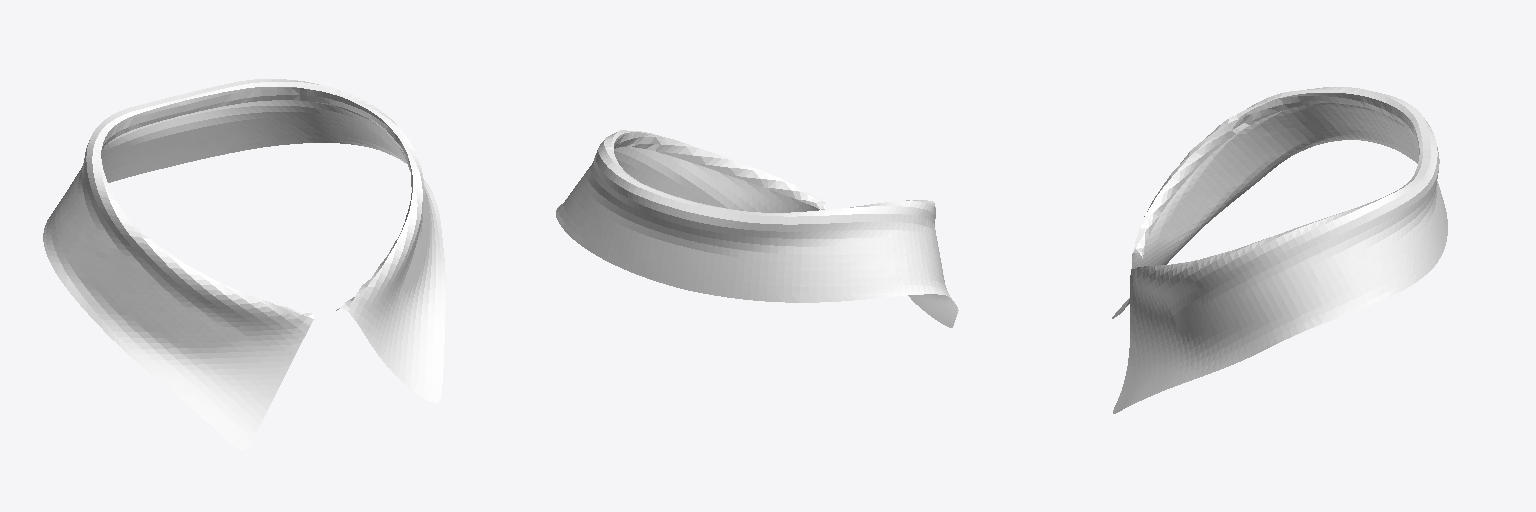
File: AFO_Shirt_Standard_Collar.obj
The picture shows the model from 3 angles: view 1: azimuth 30°, elevation 25°; view 2: azimuth 150°, elevation 25°; view 3: azimuth 270°, elevation 25°; orthographic projection.
Size of the model in its own units: 185 by 105 by 145.